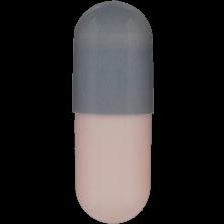50436-7350: (0, 0, 224, 224)
